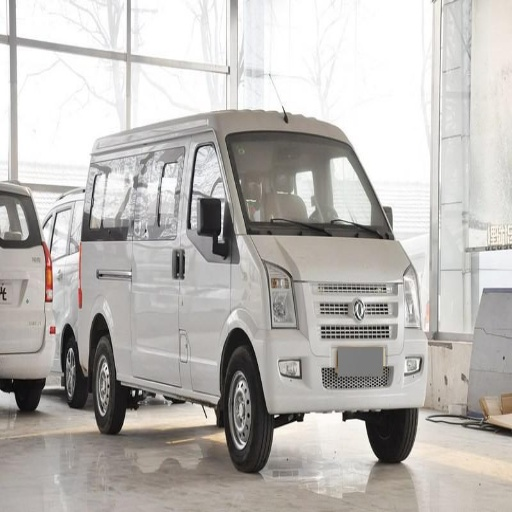back_bumper: (4, 339, 59, 377)
back_right_door: (101, 140, 194, 294), (124, 302, 152, 374)
front_bumper: (290, 281, 427, 403)
front_glass: (228, 132, 389, 238)
trunk: (258, 278, 397, 411), (2, 253, 124, 367)
